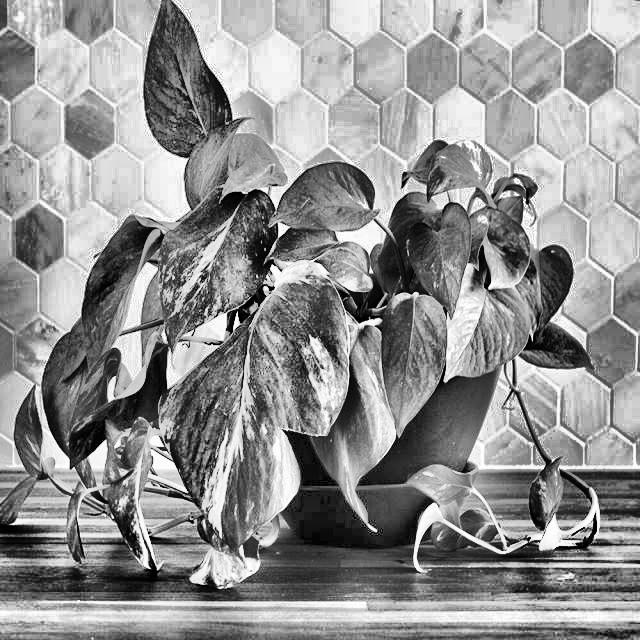plants: (18, 221, 616, 585)
